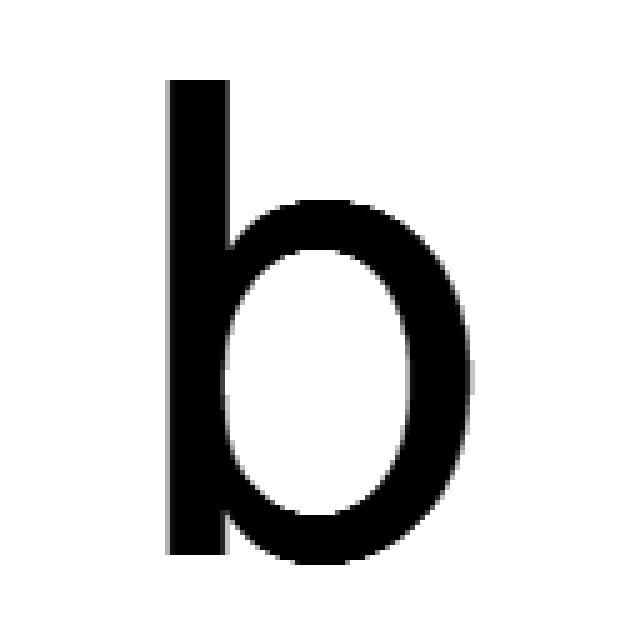B: (165, 80, 470, 560)
